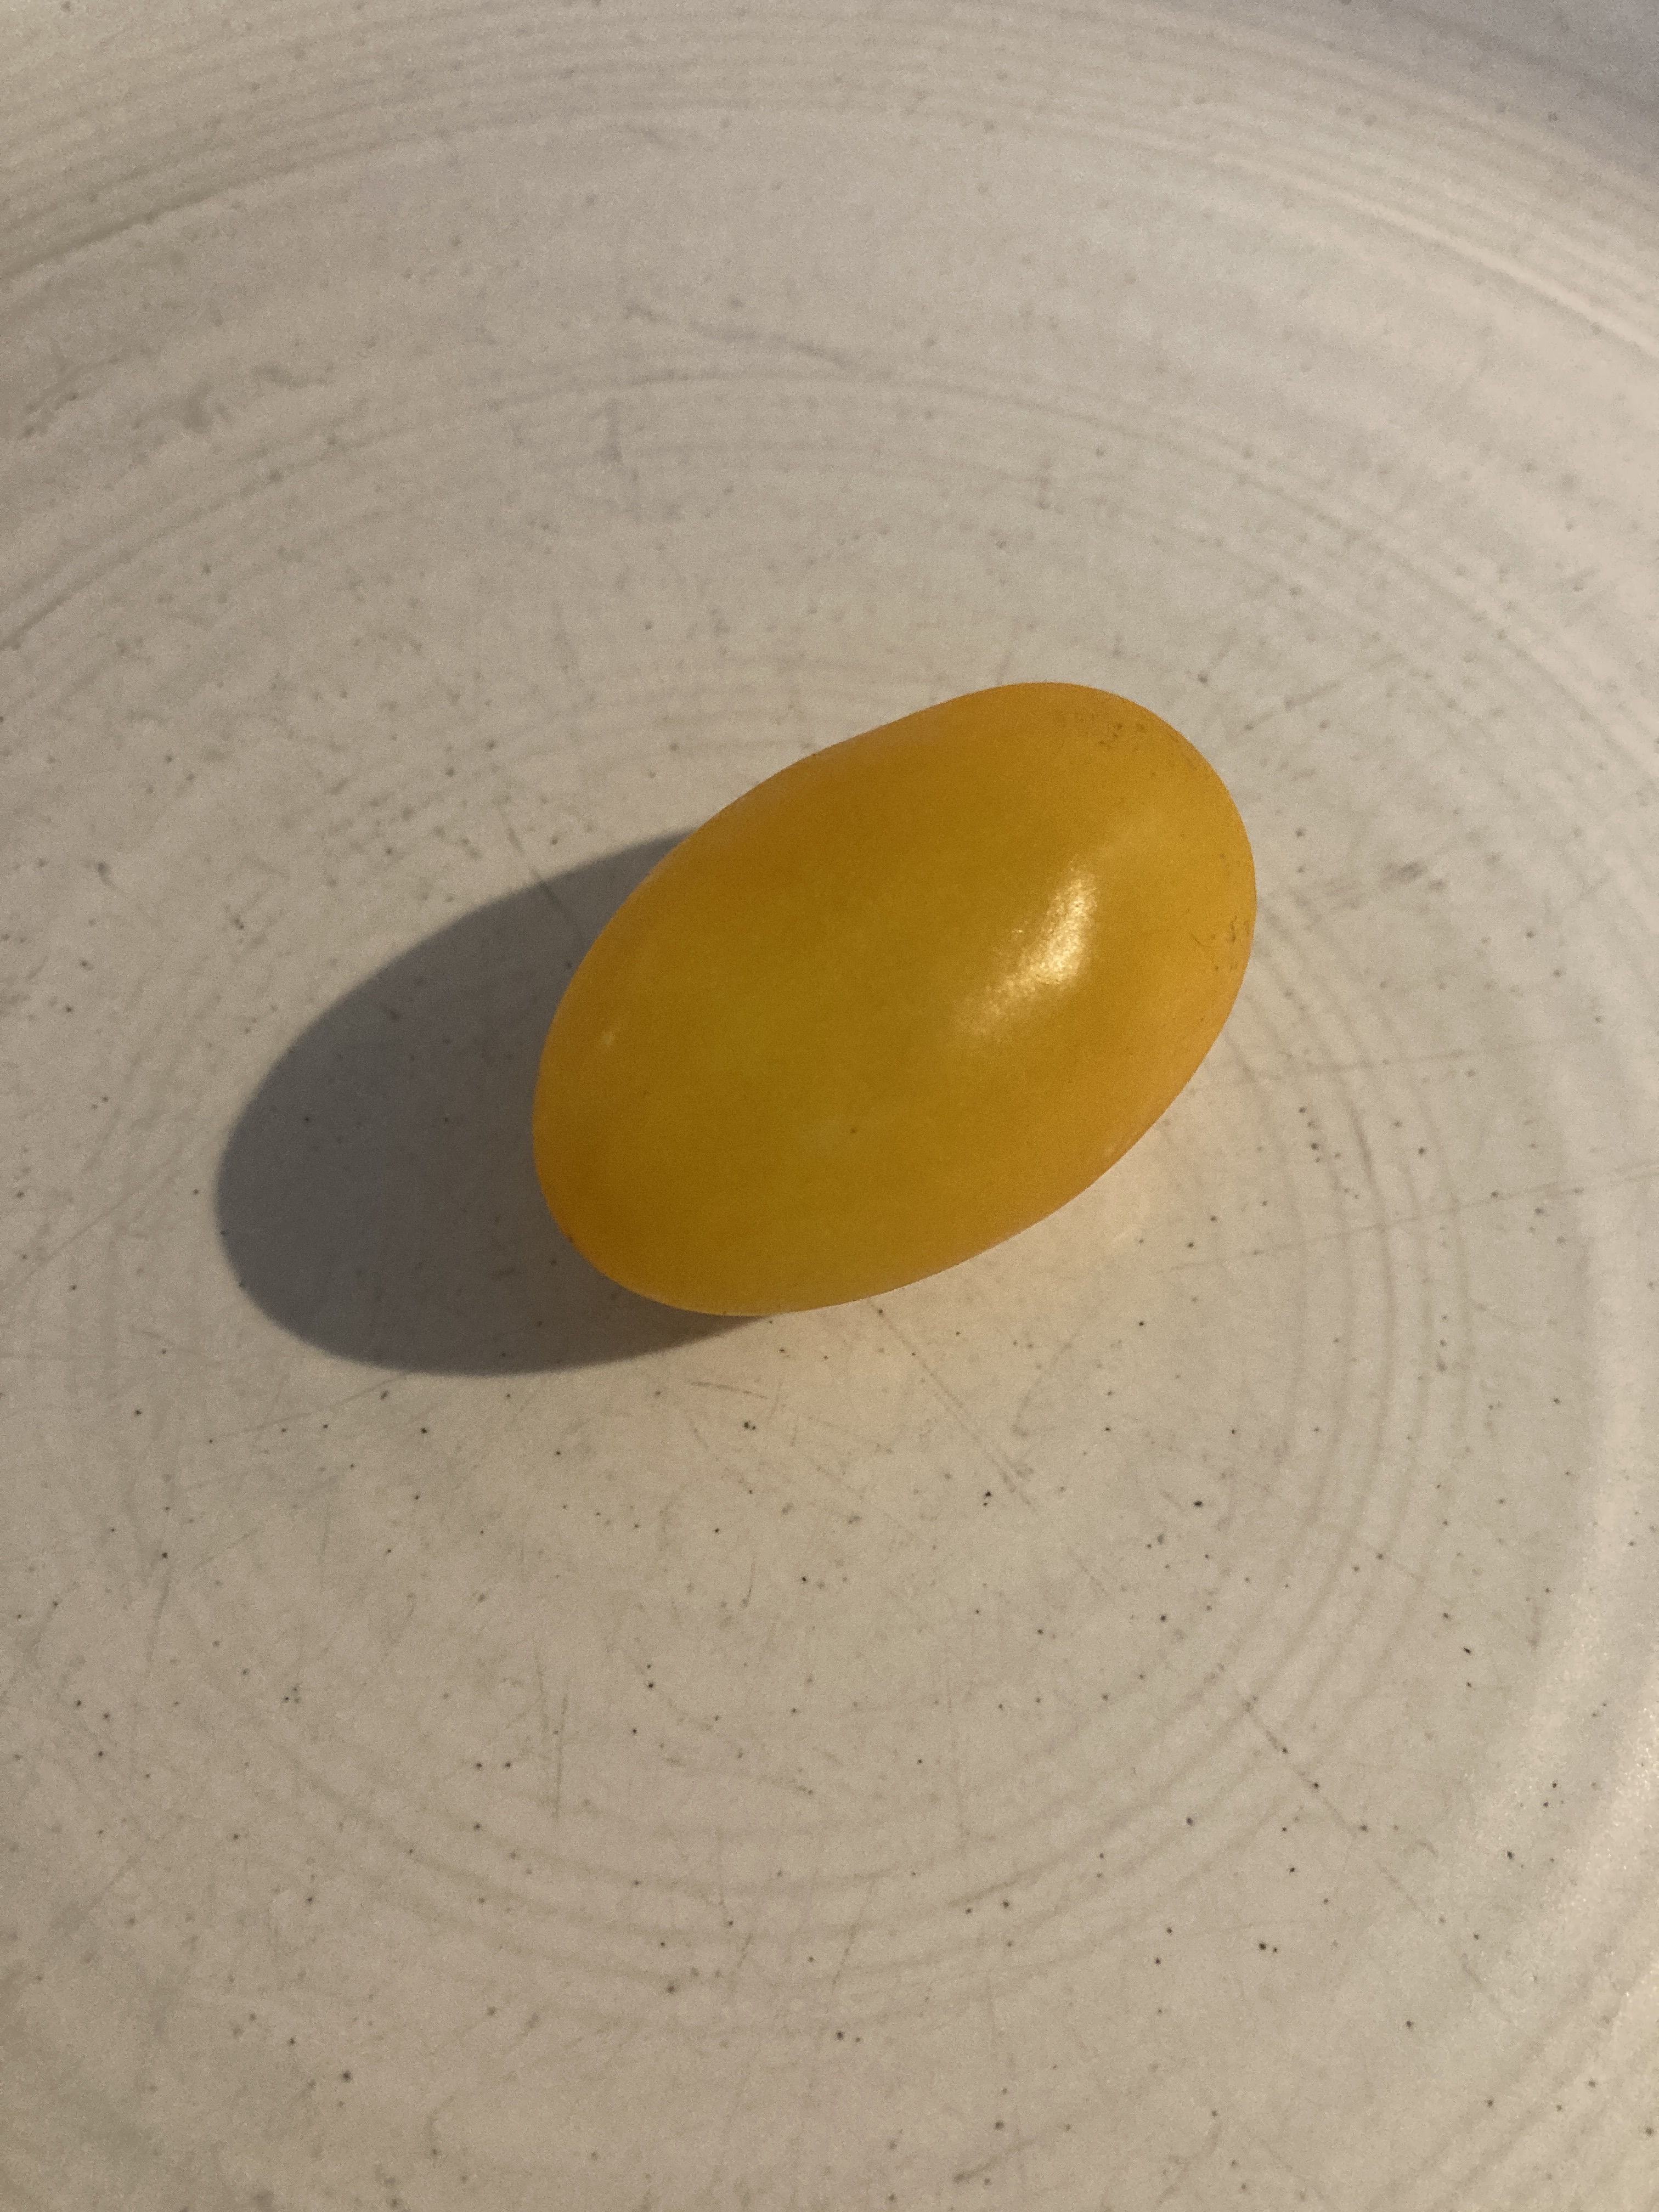healthy-tomato: (523, 672, 1260, 1324)
